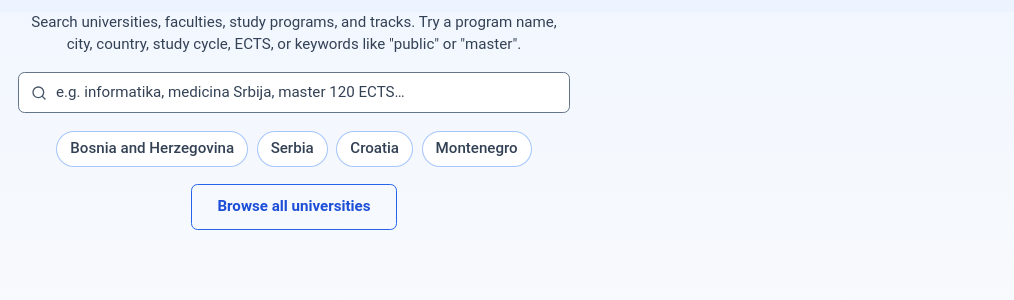
UnifiedSearch › shows the search error message on a non-404 non-ok response
This screenshot has width=1014, height=300.
Type "sarajevo" into the search field named "Search" at (288, 93), box [56,74,520,112]
Wait 500 ms
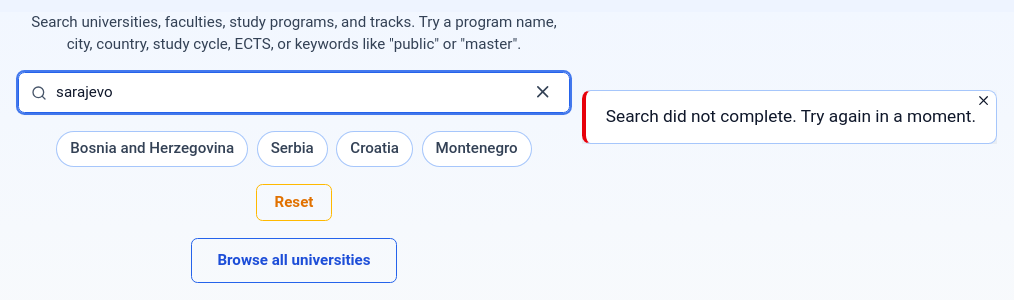
Check: the text "Search did not complete. Try again in a moment." is shown, box [606,104,976,130]
